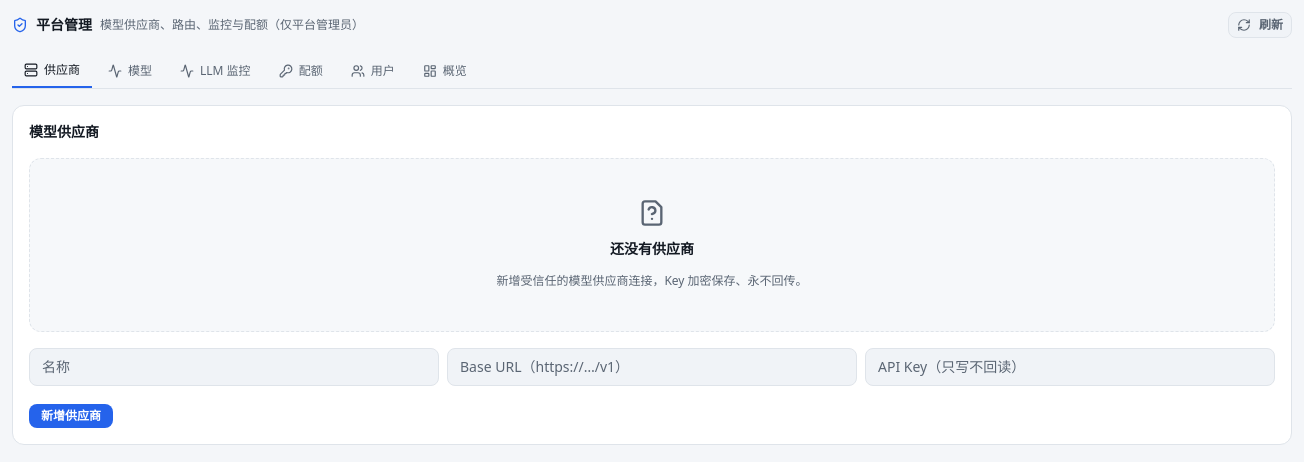
Scenario: AdminPage 用户与概览视图 › 管理员可查看平台概览统计
What coordinates should you click on to do the following:
click the button "概览"
I would click on:
 (445, 71)
Its box is [411, 54, 479, 88].
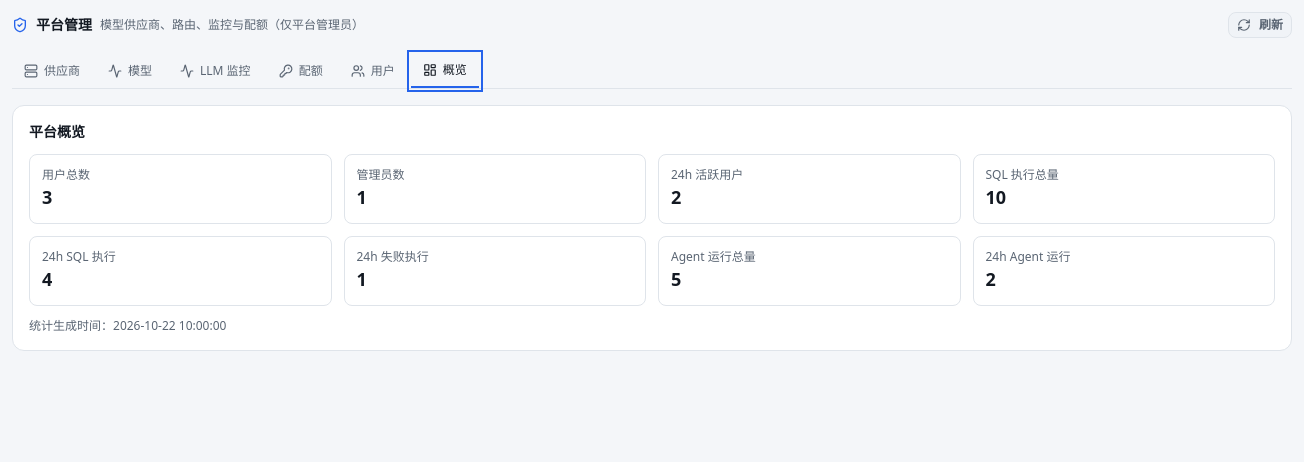
Expected: the text "用户总数" is shown, [42, 166, 90, 183]
Expected: the text "3" is shown, [42, 185, 52, 209]
Expected: the text "统计生成时间：2026-10-22 10:00:00" is shown, [29, 317, 226, 334]
